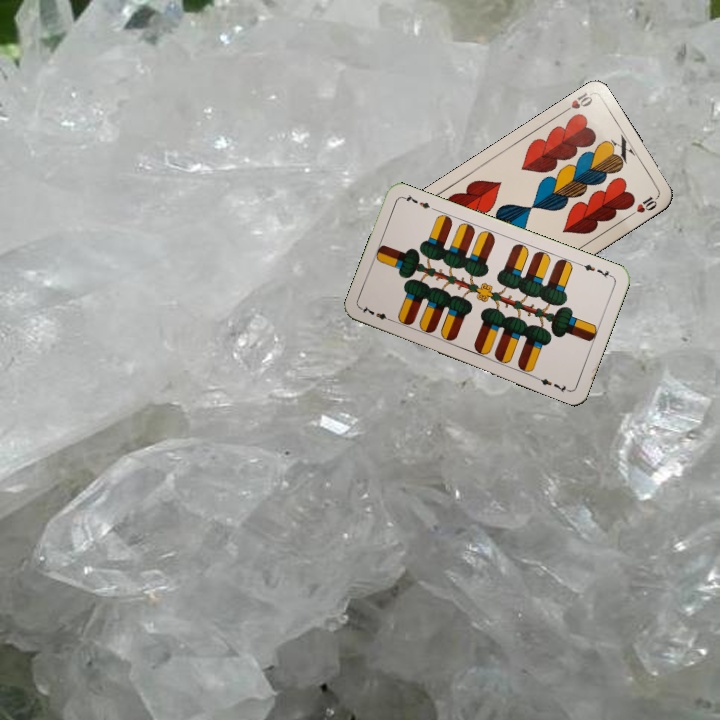E7: (358, 301, 397, 324), (576, 259, 615, 281)
H10: (557, 88, 595, 117)
